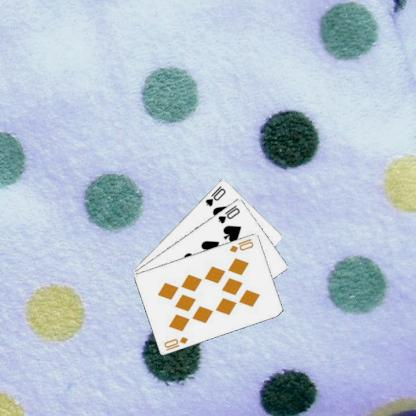10D: (227, 235, 255, 254), (161, 334, 190, 352)
10S: (203, 183, 227, 208), (216, 202, 242, 225)
